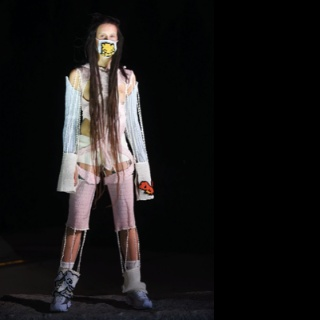with_mask: (95, 30, 118, 58)
